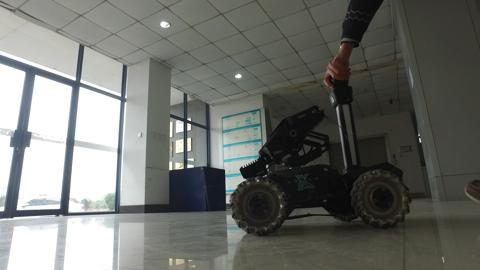chariot: (223, 69, 416, 238)
